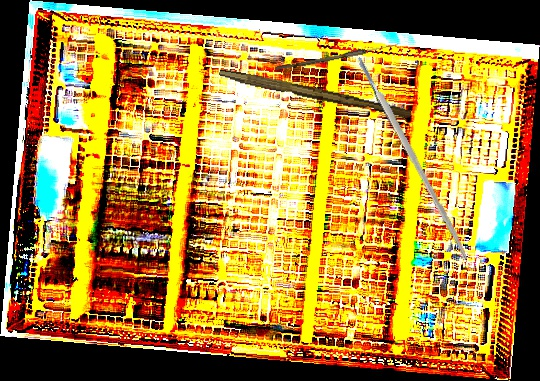Scalpel Handle: (355, 54, 472, 262), (217, 68, 413, 120)
Surgical Spoon: (274, 41, 399, 73)
